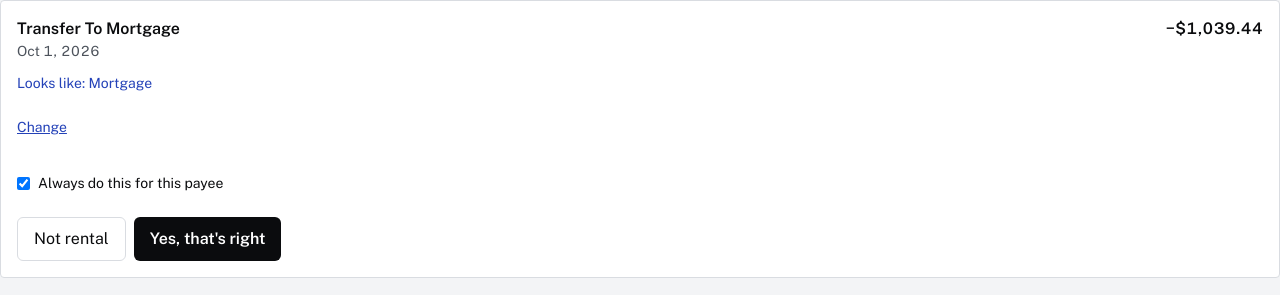
it: bank review card › collapses after filing and offers undo
Click the button "Yes, that's right" at (208, 239), box left=134, top=217, right=282, bottom=261
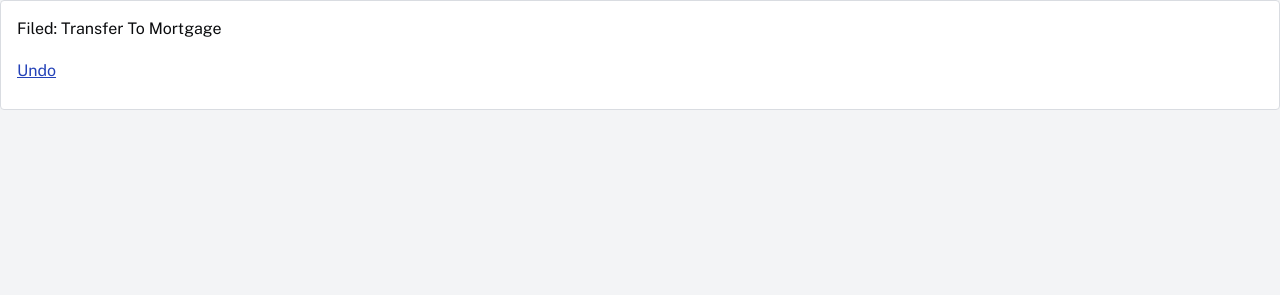
Result: the text "Filed: Transfer To Mortgage" is shown at left=17, top=19, right=222, bottom=38
Result: the button "Undo" is shown at left=17, top=49, right=56, bottom=93
